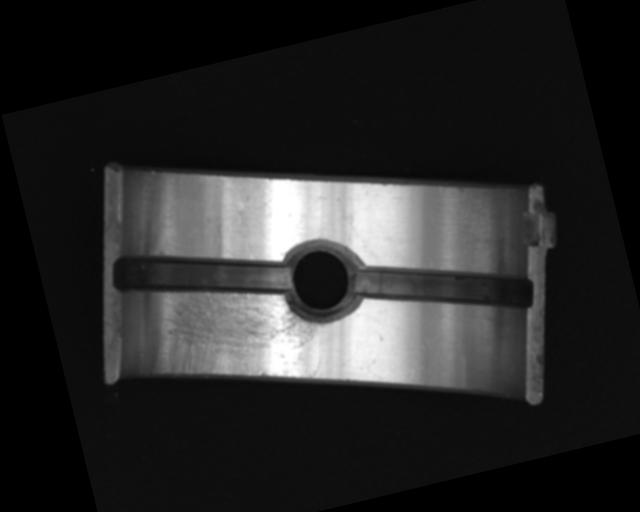gap: (350, 228, 538, 345), (107, 218, 298, 332)
hole: (273, 228, 372, 331)
scratch: (134, 253, 327, 418)
